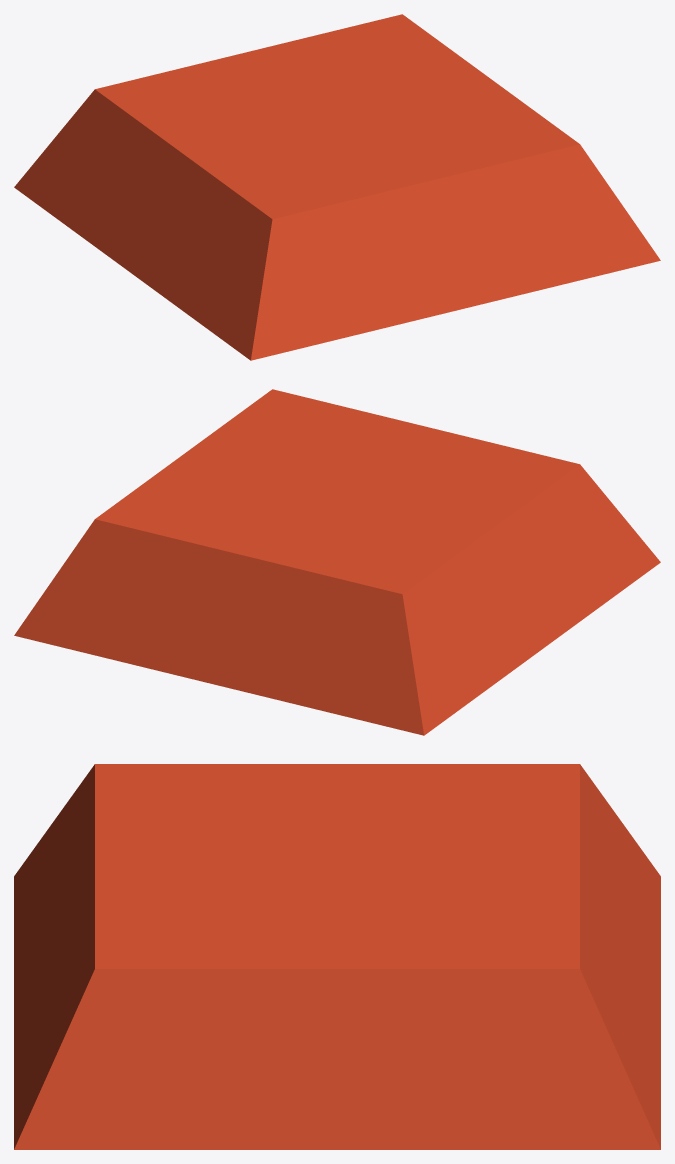
Rendered from hound_abilities.gltf.
The picture shows the model from 3 angles, top to bottom: view 1: azimuth 30°, elevation 25°; view 2: azimuth 150°, elevation 25°; view 3: azimuth 270°, elevation 25°; orthographic projection. The views are drawn at different scales.
Visible parts, largest first — view 1: Bite Claw; view 2: Bite Claw; view 3: Bite Claw.
Boxes of the visible parts, bbox=[...] form: Bite Claw: bbox=[14, 14, 660, 360]; Bite Claw: bbox=[14, 389, 660, 735]; Bite Claw: bbox=[14, 764, 660, 1149].
Bounding box in the file's own units: 2 × 0.5 × 2.
